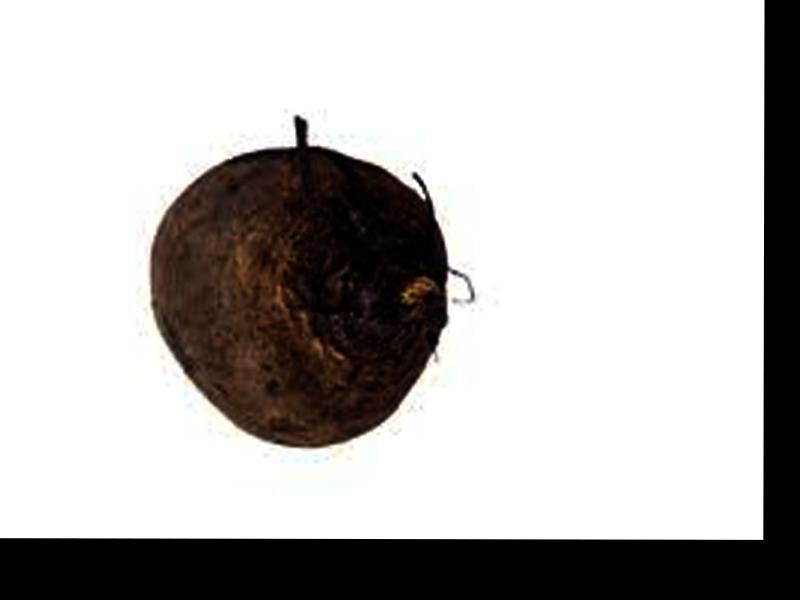Beet: (147, 149, 443, 447)
